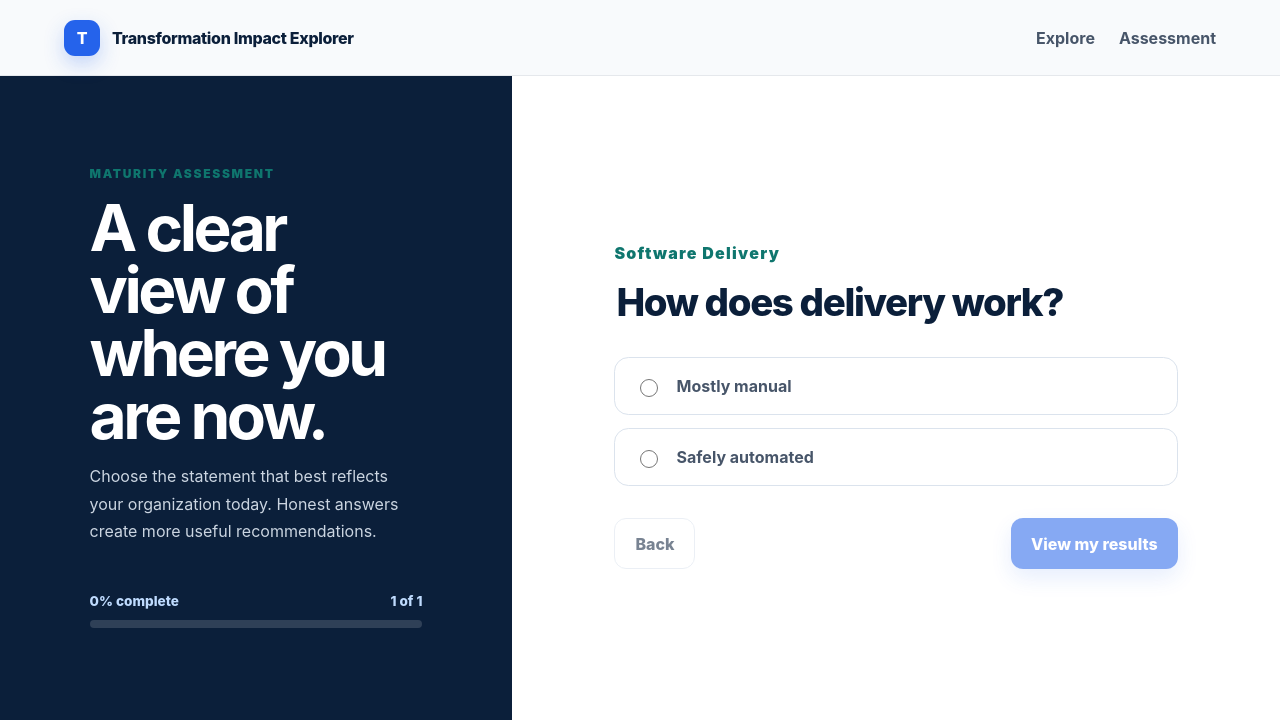
assessment uses labelled native options and enables progress
The width and height of the screenshot is (1280, 720).
Expected: the button "View my results" is disabled, [1011,518,1178,569]
Step 1. Click the radio button labelled "Safely automated" → (649, 459), box [640,450,658,468]
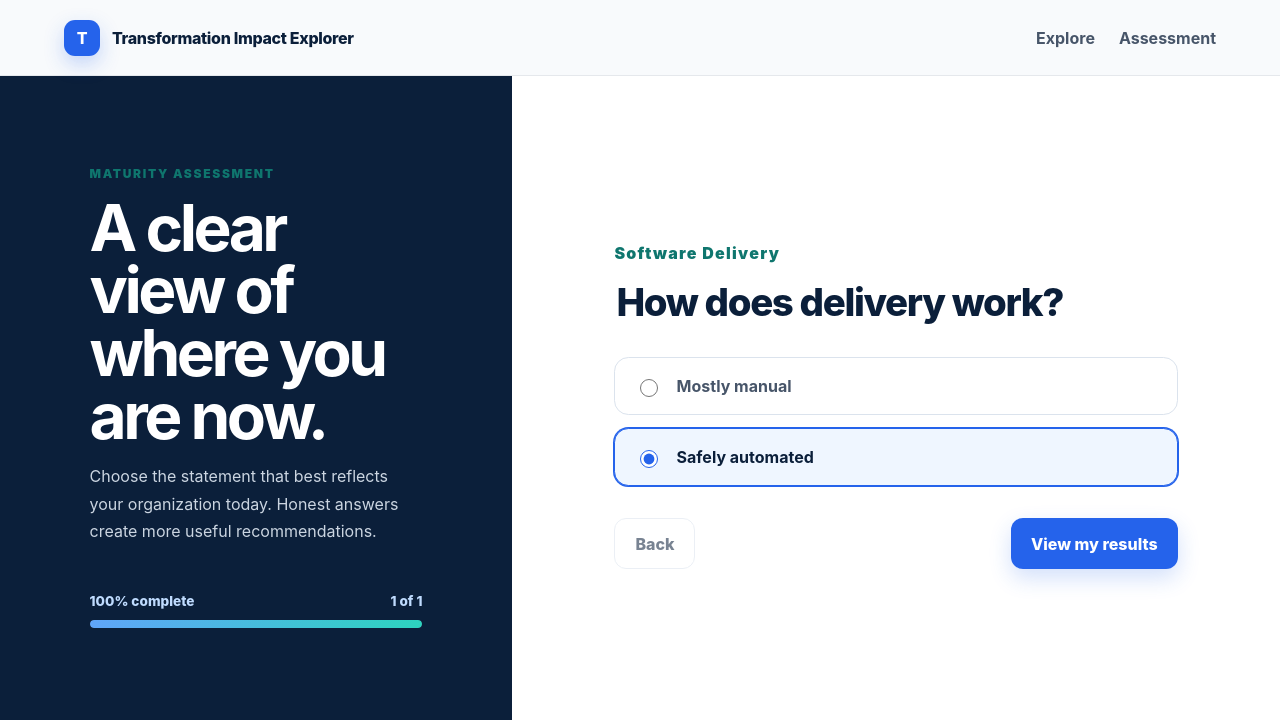
Now the button "View my results" is enabled, box [1011,518,1178,569]
